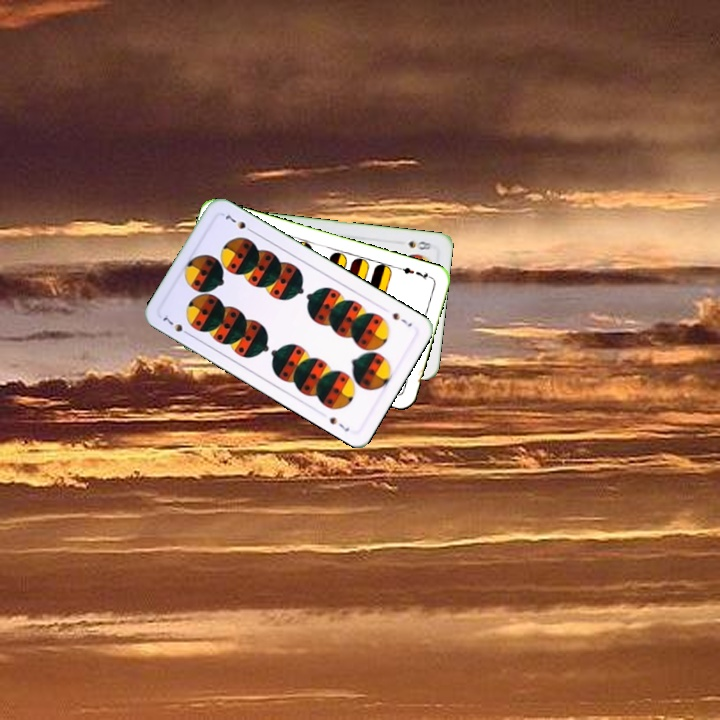E7: (395, 263, 434, 283)
S7: (158, 310, 194, 339), (388, 308, 415, 329)
S8: (404, 237, 434, 253)
